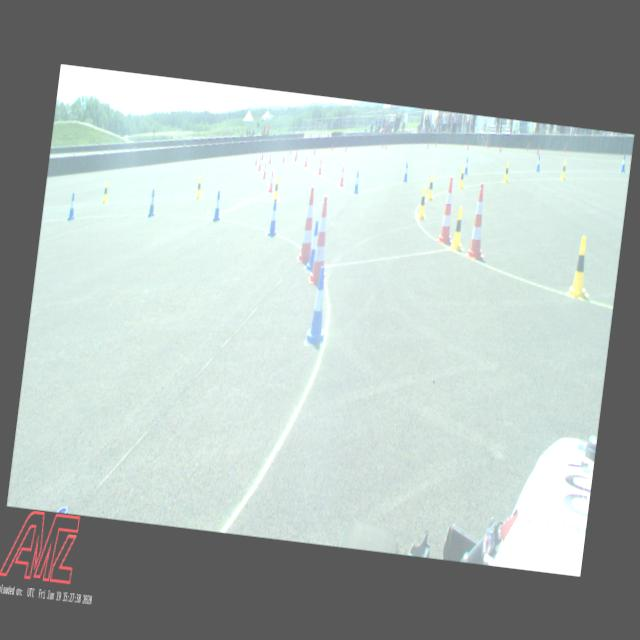blue_cone: (306, 265, 332, 344), (306, 220, 320, 272), (268, 199, 280, 237), (212, 190, 222, 221), (147, 188, 157, 217), (67, 192, 77, 220), (352, 170, 360, 193), (402, 162, 409, 182), (620, 154, 627, 172), (536, 154, 542, 171), (464, 157, 469, 174)
large_orange_cone: (307, 195, 336, 285), (463, 182, 492, 260), (296, 186, 318, 263), (436, 176, 460, 245)
orange_cone: (268, 171, 276, 192), (338, 166, 346, 186), (262, 162, 268, 178), (257, 157, 262, 170), (318, 158, 322, 174), (304, 154, 308, 166), (268, 151, 272, 163), (254, 152, 258, 164), (282, 151, 286, 162), (294, 151, 297, 162)
yellow_cone: (566, 235, 592, 299), (450, 205, 466, 251), (416, 185, 428, 220), (426, 173, 435, 200), (272, 176, 281, 200), (458, 166, 466, 188), (102, 181, 110, 203), (196, 176, 203, 199), (502, 162, 510, 182), (560, 160, 566, 180)
